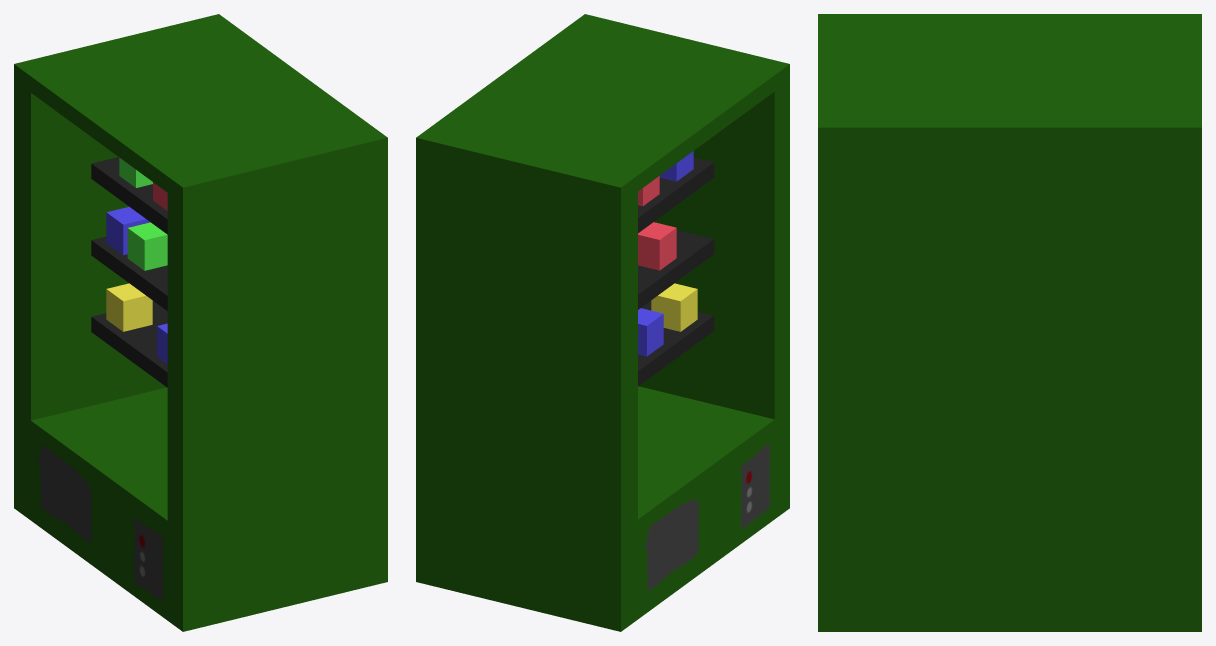
Rendered from VendingMachine.fbx.
The picture shows the model from 3 angles, left to right: view 1: azimuth 30°, elevation 25°; view 2: azimuth 150°, elevation 25°; view 3: azimuth 270°, elevation 25°; orthographic projection. The views are drawn at different scales.
Parts seen in each view (by area): view 1: Vending machine; view 2: Vending machine; view 3: Vending machine.
Part boxes in pixels (left/top/right/bottom): Vending machine: left=14, top=14, right=387, bottom=631; Vending machine: left=416, top=14, right=789, bottom=631; Vending machine: left=818, top=14, right=1201, bottom=631.
Bounding box in the file's own units: 140 × 290 × 200.
